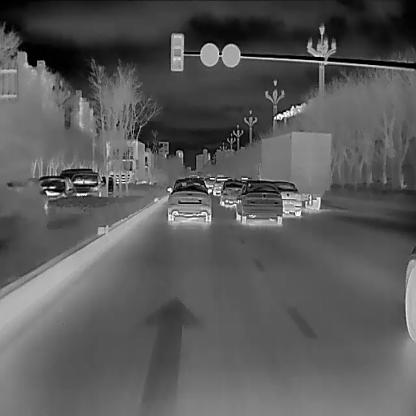car: (233, 179, 284, 226), (167, 178, 211, 223), (37, 176, 77, 210), (68, 171, 108, 204), (274, 180, 302, 216), (219, 180, 244, 207), (213, 176, 230, 194)
truck: (260, 129, 332, 210), (105, 141, 145, 187)
